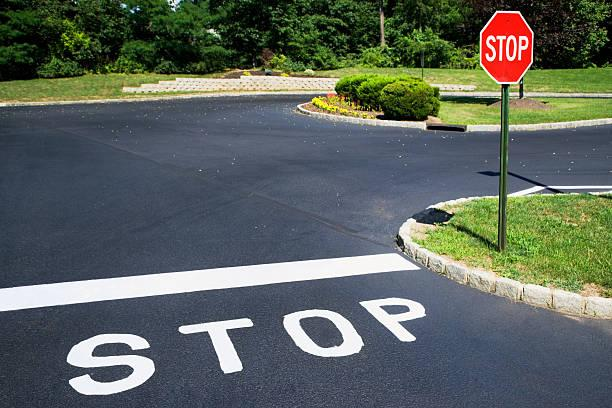Pole: (498, 84, 509, 250)
Sign: (480, 11, 534, 85)
